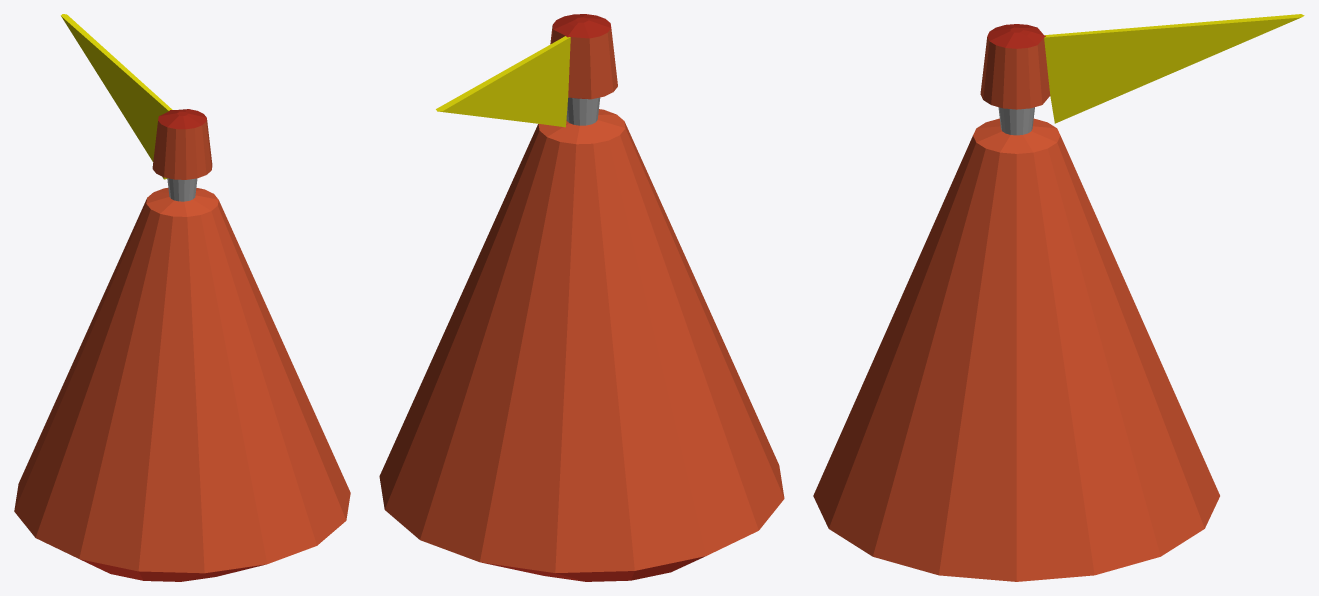
Rendered from buoyCheckpoint.fbx.
3 views of the same model, side by side, from view 1: azimuth 30°, elevation 25°; view 2: azimuth 150°, elevation 25°; view 3: azimuth 270°, elevation 25° (orthographic). The views are drawn at different scales.
Parts seen in each view (by area): view 1: Cylinder; view 2: Cylinder; view 3: Cylinder.
Boxes of the visible parts, x1=… form: Cylinder: x1=14, y1=14, x2=350, y2=581; Cylinder: x1=379, y1=14, x2=784, y2=581; Cylinder: x1=813, y1=14, x2=1304, y2=581.
Bounding box in the file's own units: 173 × 254 × 209.
